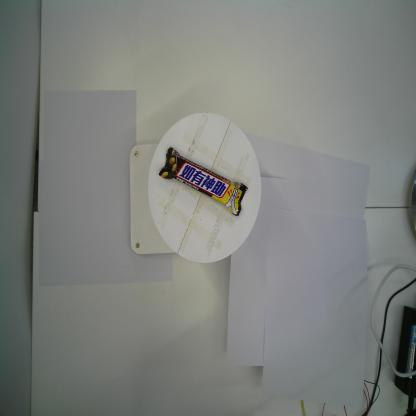Chocolate: (158, 147, 248, 217)
